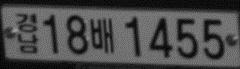1: (122, 15, 147, 58), (41, 13, 62, 54)
4: (148, 16, 172, 58)
5: (175, 17, 198, 59), (202, 18, 225, 60)
8: (65, 13, 88, 55)
경남_V: (16, 12, 39, 53)
배: (89, 16, 115, 54)
